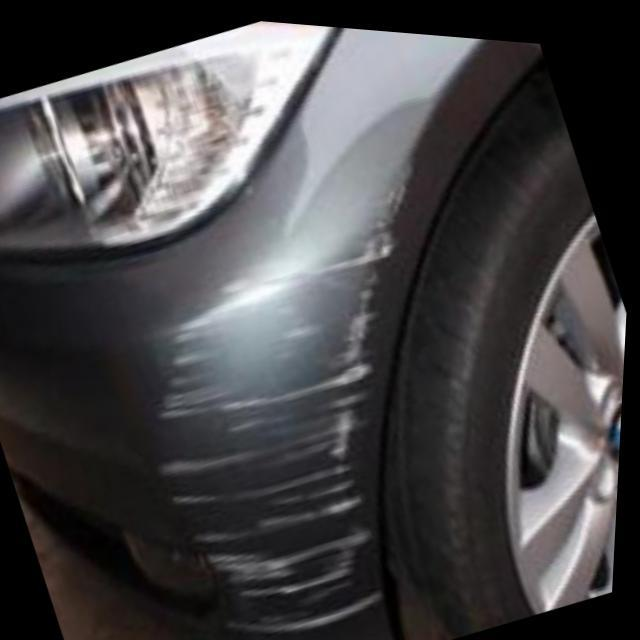rub: (161, 161, 416, 624)
